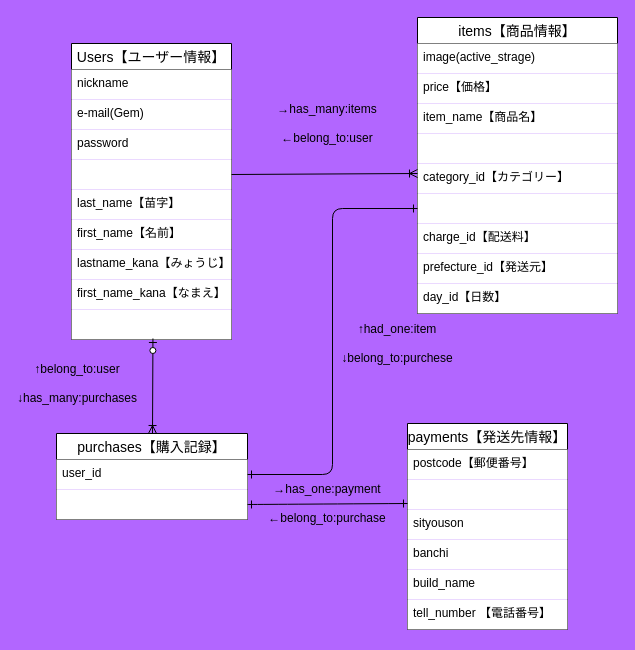
Some shapes in this 635 by 650 pixel diagram are drawn without their labels. The centre of each missing label's shape, as x and y in pixels:
"birth【生年月日】" belongs at pixel 151 324.
"description_id【商品の状態】" belongs at pixel 517 208.
"encrypted_password(Gem)" belongs at pixel 151 174.
"item_explanation【商品の説明】" belongs at pixel 517 148.
"item_id" belongs at pixel 151 504.
"prefecture_id" belongs at pixel 487 494.
